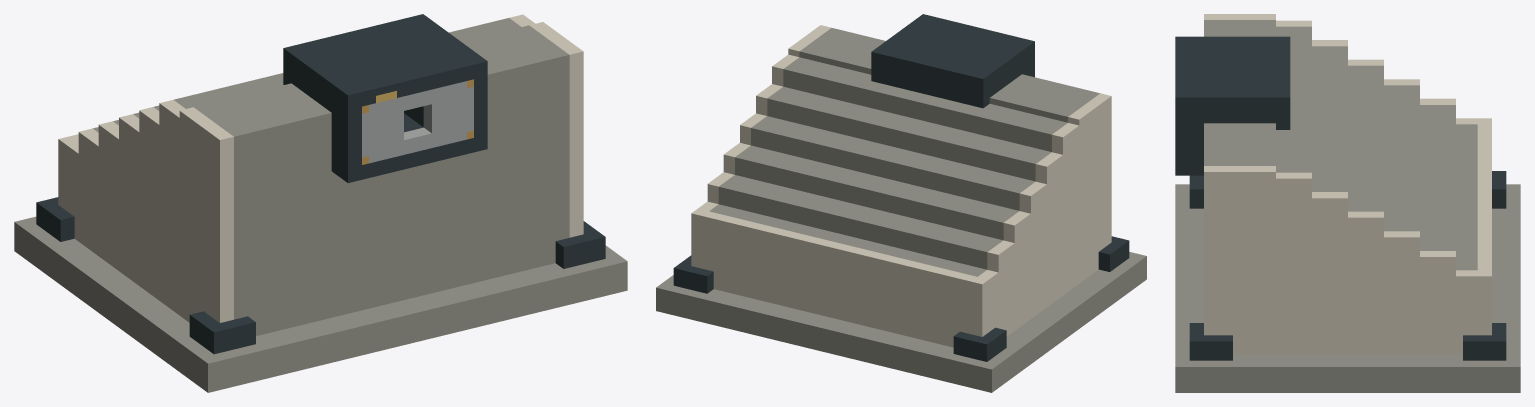
3 renders of one model, left to right at view 1: azimuth 30°, elevation 25°; view 2: azimuth 150°, elevation 25°; view 3: azimuth 270°, elevation 25°, orthographic. The views are drawn at different scales.
Parts seen in each view (by area): view 1: 悬桥主缆真实岸侧锚块组件; view 2: 悬桥主缆真实岸侧锚块组件; view 3: 悬桥主缆真实岸侧锚块组件.
Part boxes in pixels (bbox=[...]): 悬桥主缆真实岸侧锚块组件: bbox=[14, 14, 627, 392]; 悬桥主缆真实岸侧锚块组件: bbox=[656, 14, 1146, 392]; 悬桥主缆真实岸侧锚块组件: bbox=[1175, 14, 1520, 392].
Size of the model in its own units: 6 by 3.6 by 4.8.
6 materials, 6 textured.
